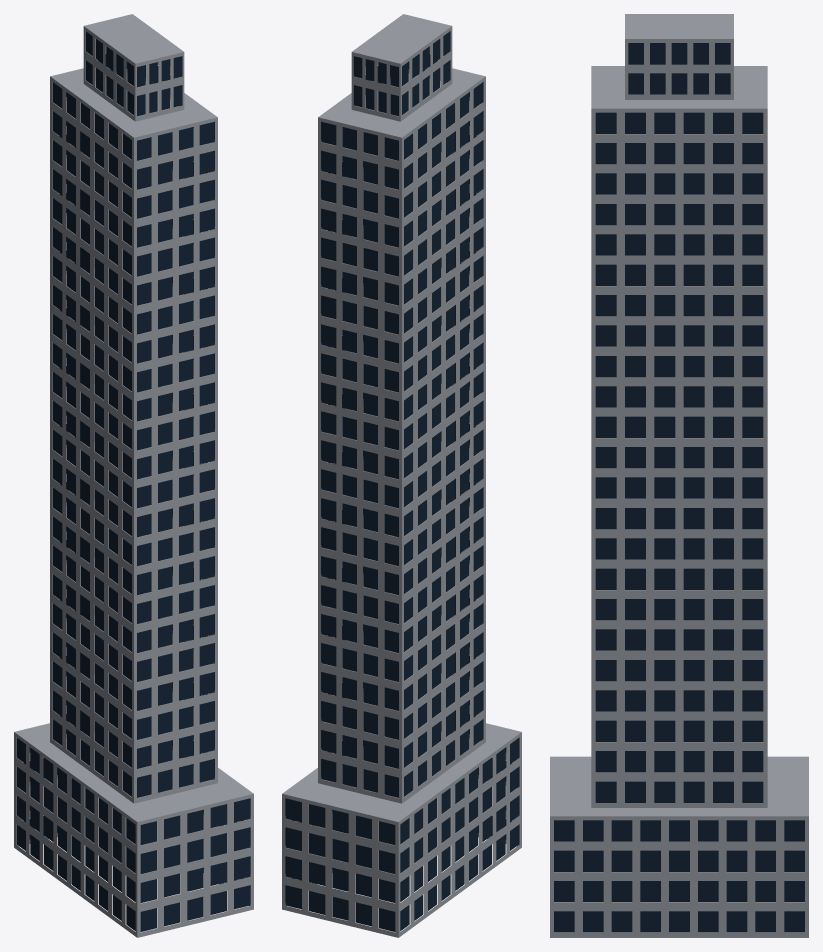
File: Residential Buildings 009.obj
The picture shows the model from 3 angles, left to right: view 1: azimuth 30°, elevation 25°; view 2: azimuth 150°, elevation 25°; view 3: azimuth 270°, elevation 25°; orthographic projection. The views are drawn at different scales.
Visible parts, largest first — view 1: Residential; view 2: Residential; view 3: Residential.
Boxes of the visible parts, <box> form: Residential: <box>14,14,253,937</box>; Residential: <box>282,14,521,937</box>; Residential: <box>550,14,808,937</box>.
Bounding box in the file's own units: 12.59 × 86.79 × 23.1.
